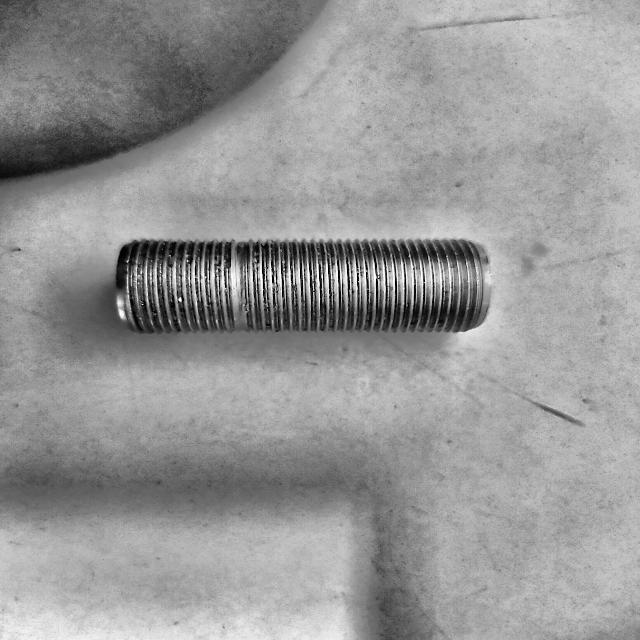Broken: (114, 237, 488, 336)
